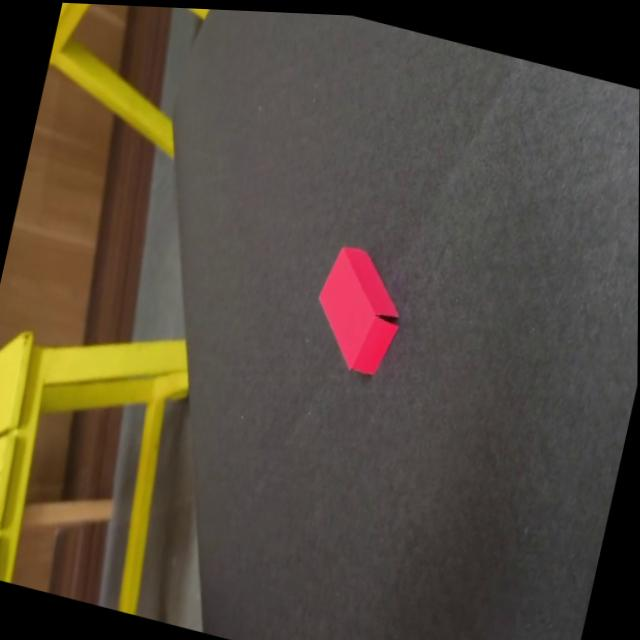red block: (301, 239, 412, 383)
